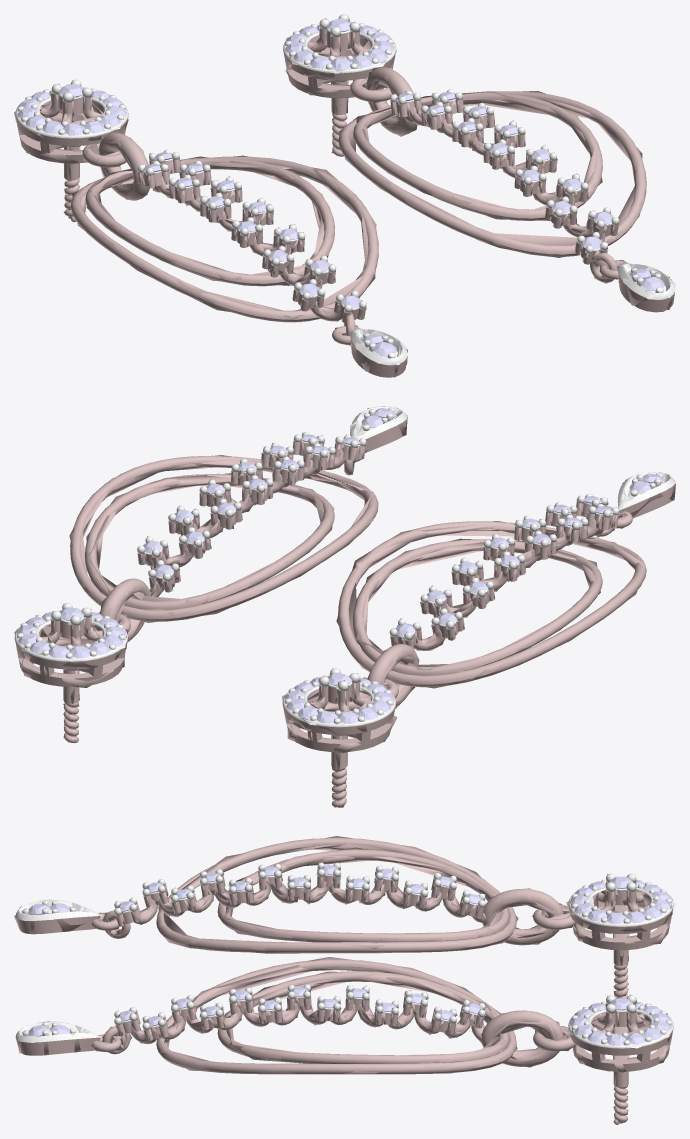
3 renders of one model, top to bottom at view 1: azimuth 30°, elevation 25°; view 2: azimuth 150°, elevation 25°; view 3: azimuth 270°, elevation 25°, orthographic. The views are drawn at different scales.
Visible parts, largest first — view 1: highPolyMesh, lowPolyMesh; view 2: highPolyMesh, lowPolyMesh; view 3: highPolyMesh, lowPolyMesh.
Part boxes in pixels (x1,y1,x2,y2): highPolyMesh: (15,14,675,377); lowPolyMesh: (14,14,675,377); highPolyMesh: (14,406,675,807); lowPolyMesh: (14,406,675,807); highPolyMesh: (15,838,673,1124); lowPolyMesh: (14,836,675,1122).
Size of the model in its own units: 0.0406 by 0.0108 by 0.0493.
